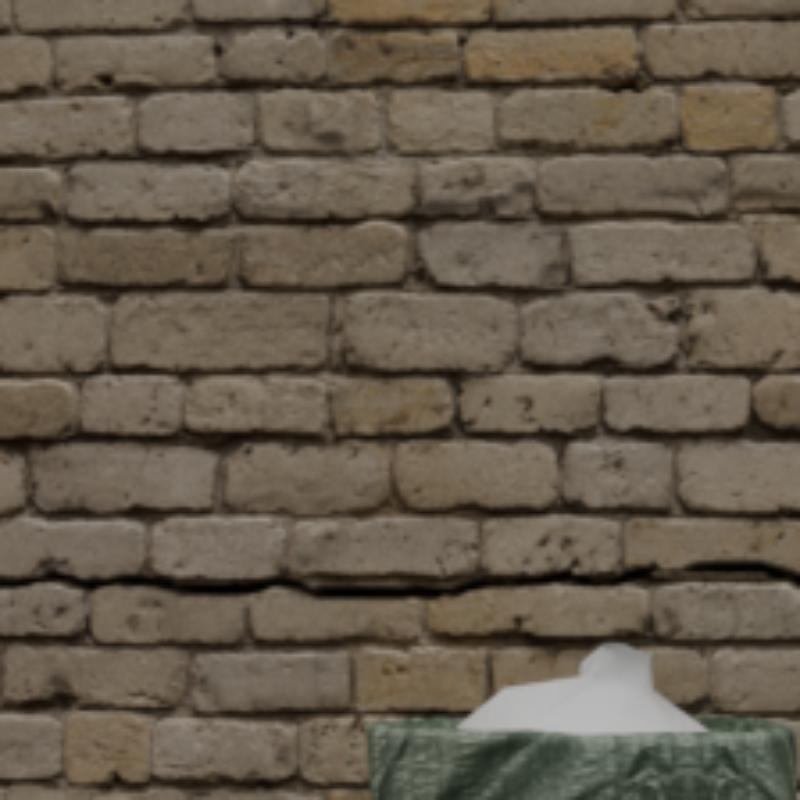pothole: (0, 561, 796, 596)
